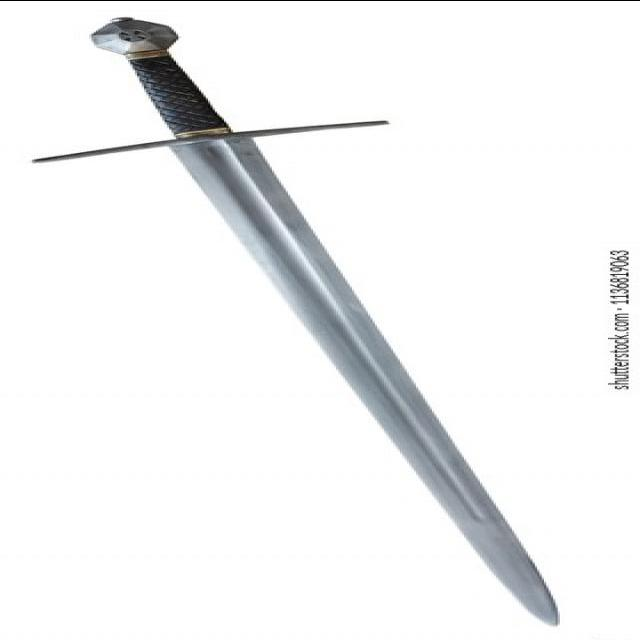sword: (25, 12, 640, 640)
